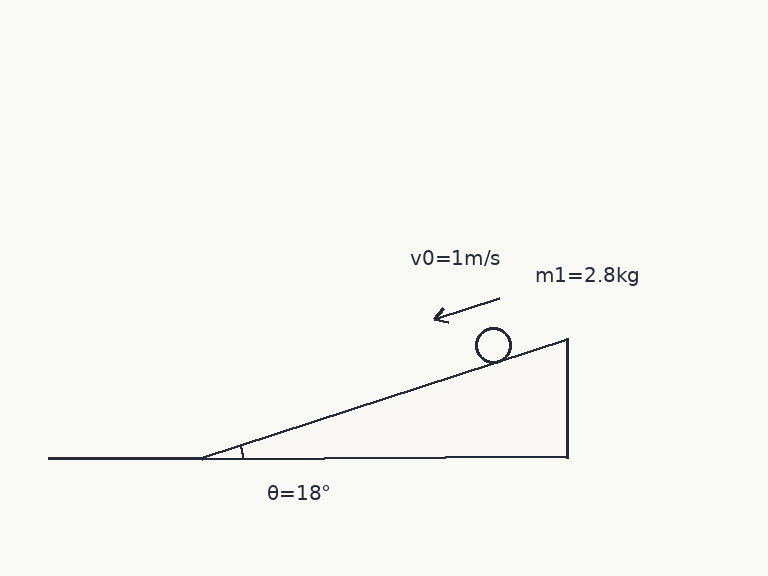ball: (473, 325, 513, 365)
ramp: (201, 338, 569, 460)
